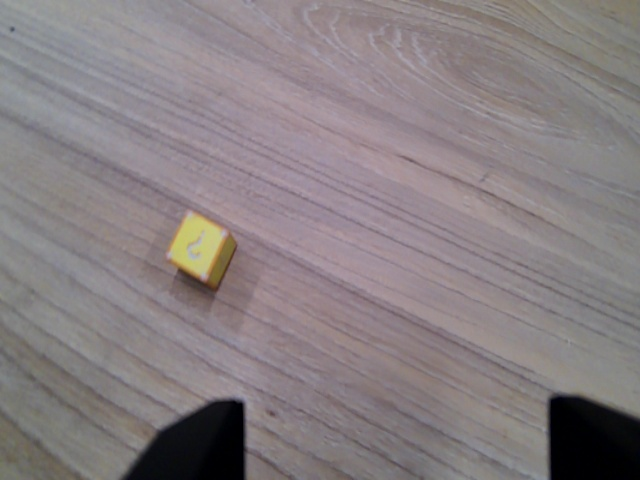lucky: (161, 208, 240, 293)
